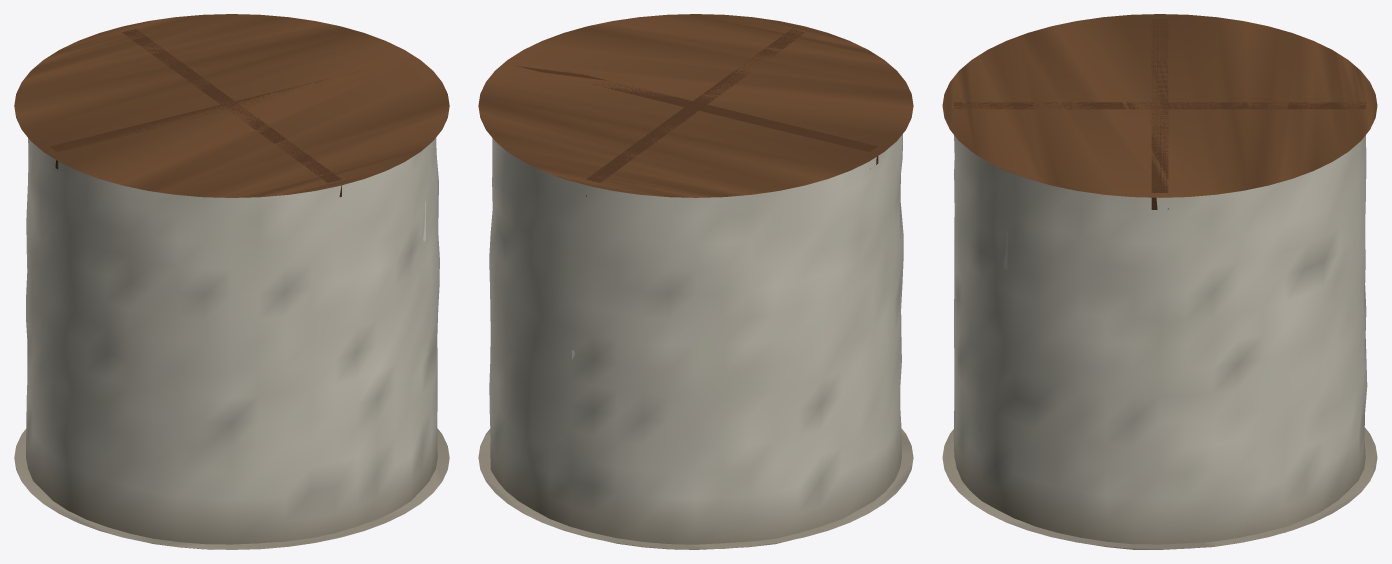
The model's file is MillInside.glb.
The picture shows the model from 3 angles, left to right: view 1: azimuth 30°, elevation 25°; view 2: azimuth 150°, elevation 25°; view 3: azimuth 270°, elevation 25°; orthographic projection.
Visible parts, largest first — view 1: Wall, Ceiling, Beams, Floor; view 2: Wall, Ceiling, Beams, Floor; view 3: Wall, Ceiling, Beams, Floor.
Boxes of the visible parts, x1,y1,x2,y2 form: Wall: (26, 137, 439, 549); Ceiling: (14, 14, 449, 197); Beams: (50, 29, 368, 197); Floor: (14, 428, 449, 549); Wall: (489, 134, 903, 549); Ceiling: (478, 14, 913, 197); Beams: (516, 29, 878, 196); Floor: (478, 428, 913, 549); Wall: (953, 135, 1367, 549); Ceiling: (942, 14, 1377, 197); Beams: (954, 19, 1365, 209); Floor: (942, 427, 1377, 549).
Bounding box in the file's own units: 3.7 × 3.35 × 3.7.
